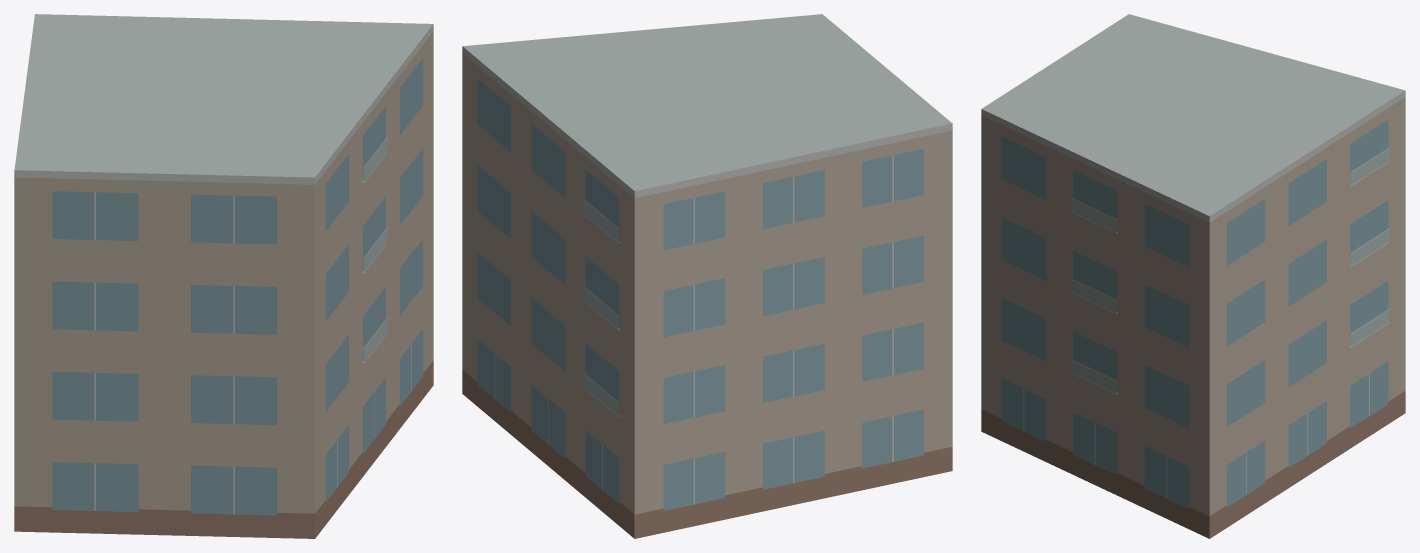
Rendered from survey-upis-32698302.glb.
3 views of the same model, side by side, from view 1: azimuth 30°, elevation 25°; view 2: azimuth 150°, elevation 25°; view 3: azimuth 270°, elevation 25° (orthographic). The views are drawn at different scales.
Parts seen in each view (by area): view 1: survey-upis-32698302.tmp; view 2: survey-upis-32698302.tmp; view 3: survey-upis-32698302.tmp.
Boxes of the visible parts, x1=… form: survey-upis-32698302.tmp: x1=14, y1=14, x2=433, y2=538; survey-upis-32698302.tmp: x1=462, y1=14, x2=952, y2=538; survey-upis-32698302.tmp: x1=981, y1=14, x2=1405, y2=538.
Bounding box in the file's own units: 16.41 × 12.2 × 14.55.
